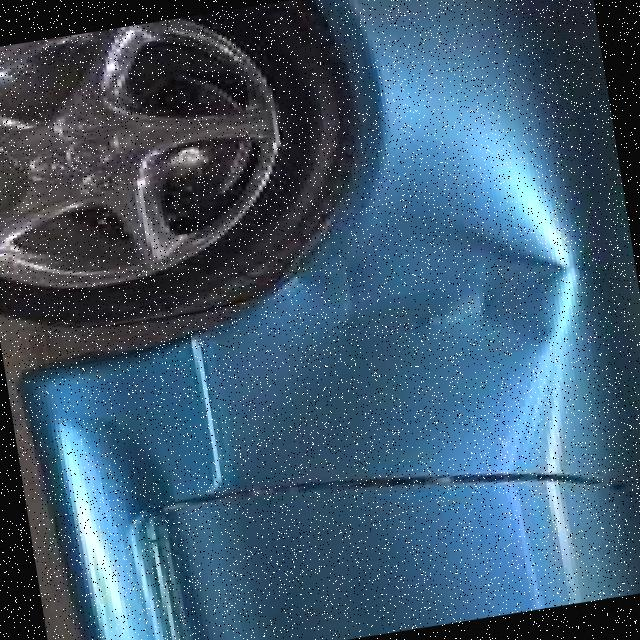Dent: (206, 192, 616, 420)
